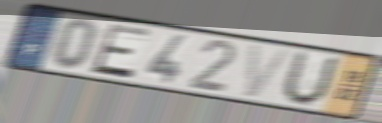0: (50, 17, 100, 72)
2: (184, 38, 237, 94)
4: (143, 33, 188, 86)
E: (87, 22, 154, 81)
U: (278, 48, 342, 108)
V: (243, 42, 295, 100)
